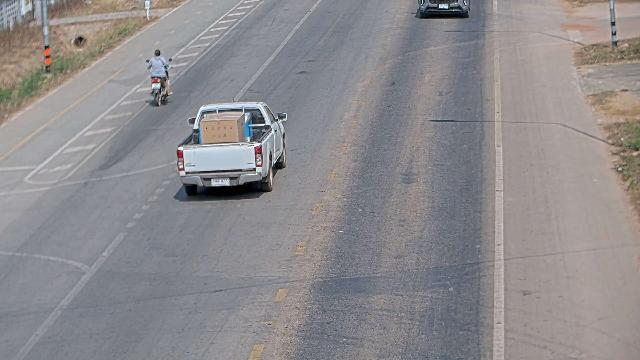car: (416, 0, 471, 18)
motorcycle: (147, 57, 174, 106)
pickup-truck: (175, 100, 288, 195)
